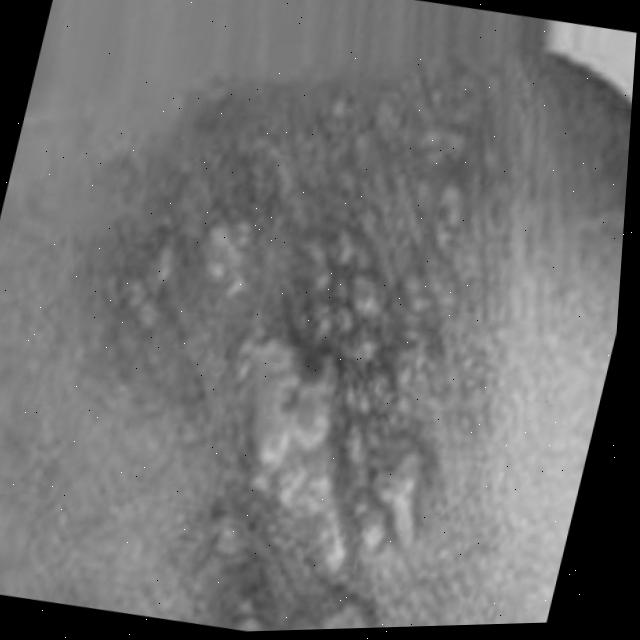Shingles: (5, 51, 567, 639)
